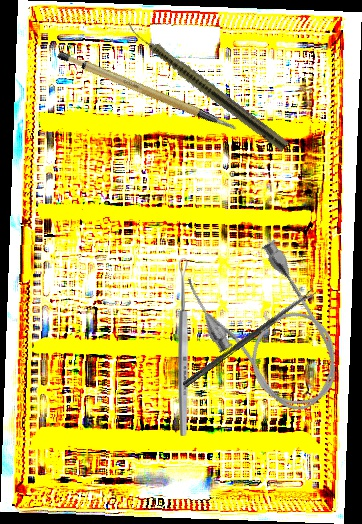Cannula: (178, 229, 360, 432)
Handpiece: (121, 19, 291, 153)
Scalpel Handle: (55, 28, 239, 159)
Surgical Spoon: (182, 288, 317, 389), (178, 258, 189, 436)
